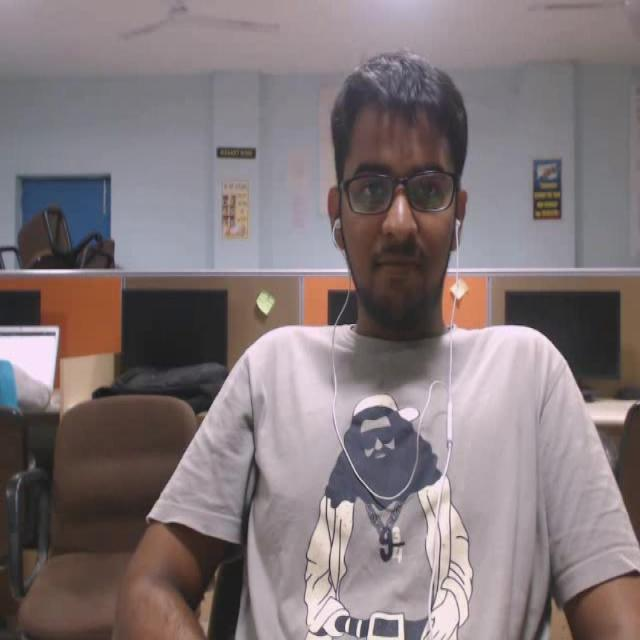Engaged: (279, 36, 542, 372)
